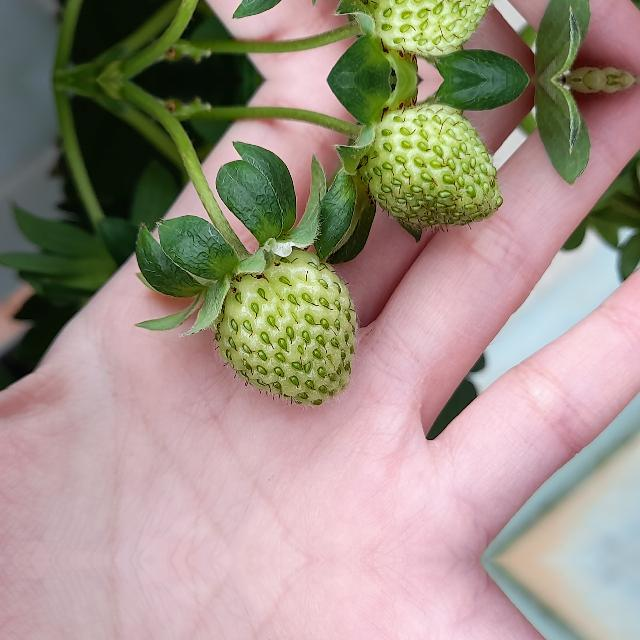Health_25: (215, 247, 358, 406), (357, 108, 498, 235), (356, 0, 497, 51)
